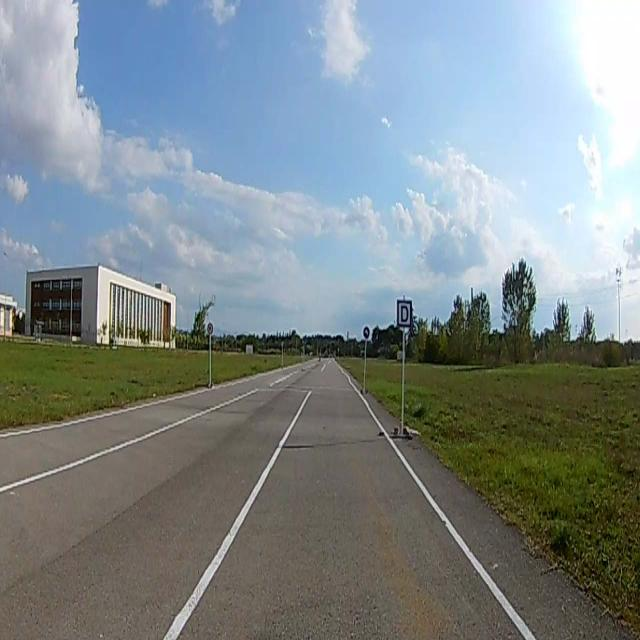durak: (397, 300, 411, 326)
